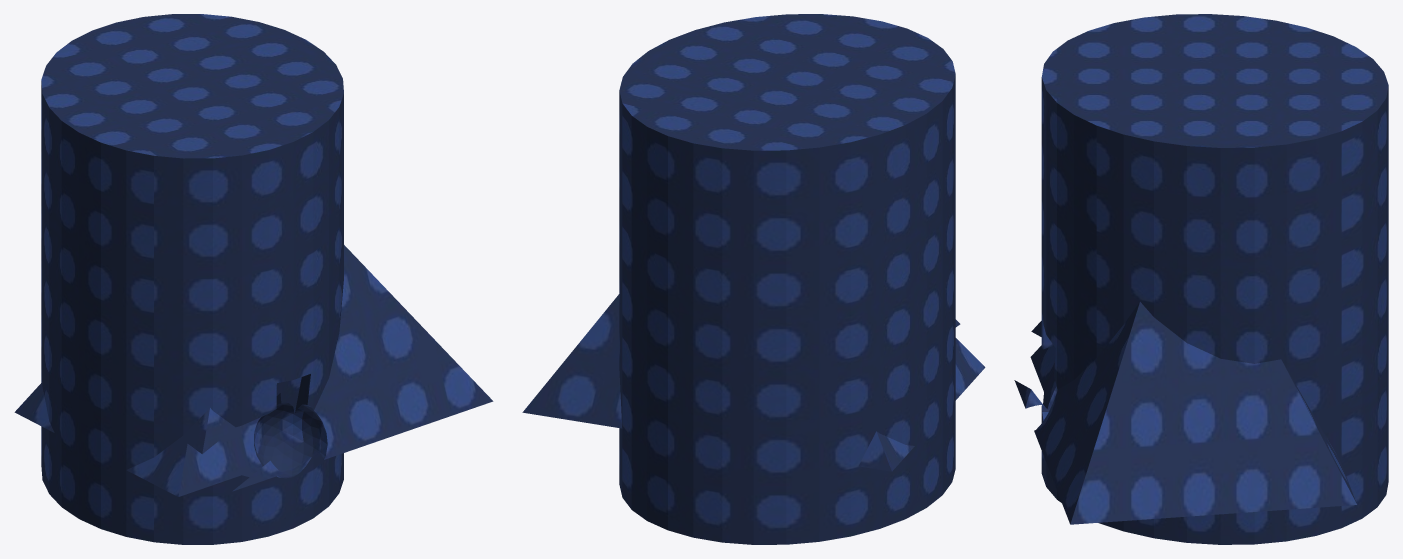
The picture shows the model from 3 angles, left to right: view 1: azimuth 30°, elevation 25°; view 2: azimuth 150°, elevation 25°; view 3: azimuth 270°, elevation 25°; orthographic projection. The views are drawn at different scales.
Visible parts, largest first — view 1: geometry_0; view 2: geometry_0; view 3: geometry_0.
Boxes of the visible parts, <box> form: geometry_0: <box>14,14,493,544</box>; geometry_0: <box>522,14,985,544</box>; geometry_0: <box>1014,14,1388,544</box>.
Size of the model in its own units: 1.79 by 1.78 by 1.52.
1 material, 1 textured.
